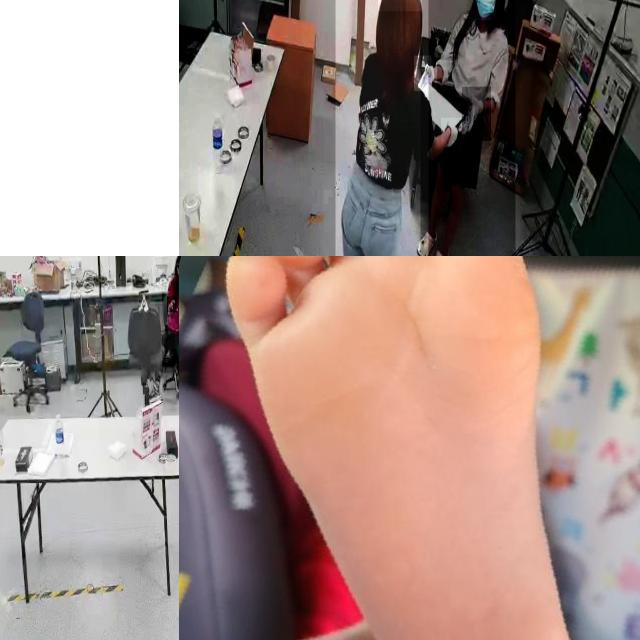Barefoots: (217, 256, 587, 640)
face_mask: (474, 0, 495, 19)
face_nomask: (176, 265, 179, 276)
hand_glove: (462, 87, 491, 141), (441, 118, 463, 157), (414, 56, 437, 91)
hand_noglove: (167, 296, 177, 314)
head_nohelmet: (377, 0, 422, 12)
person: (420, 0, 515, 256), (335, 0, 428, 256), (161, 256, 179, 393)
